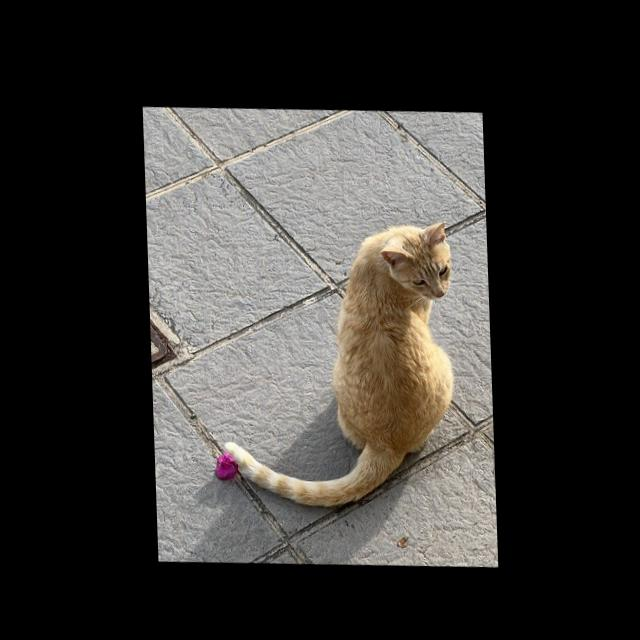animals: (218, 208, 462, 511)
